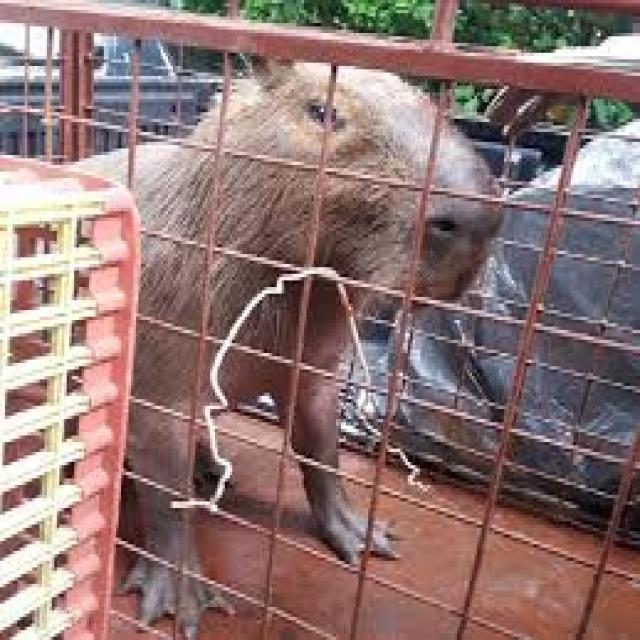capy: (47, 46, 494, 640)
